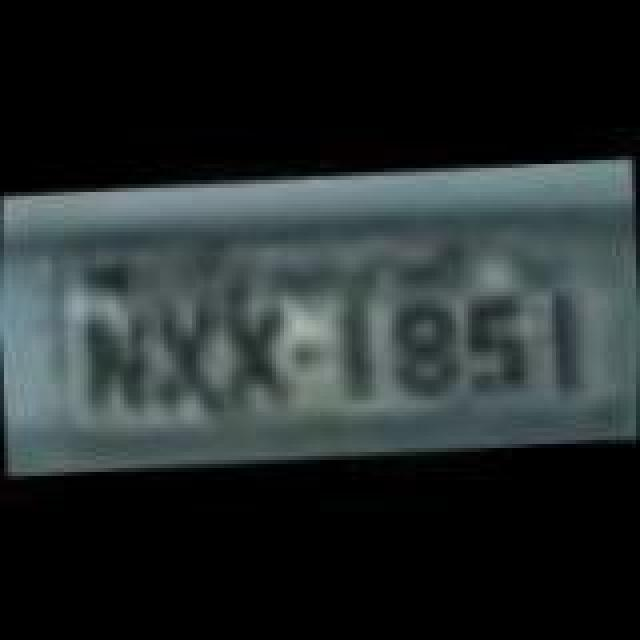1: (334, 292, 386, 408), (548, 286, 588, 394)
5: (462, 294, 530, 398)
8: (390, 300, 466, 404)
N: (80, 308, 160, 420)
X: (222, 300, 298, 412), (148, 304, 220, 416)
